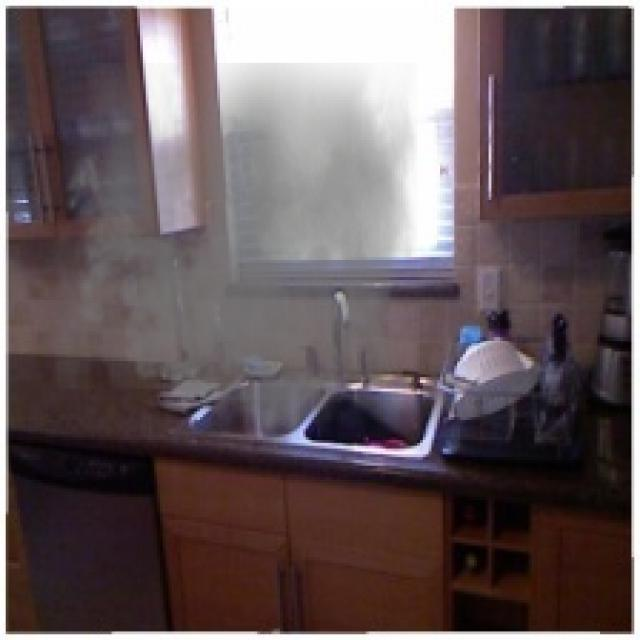Smoke: (54, 62, 417, 454)
